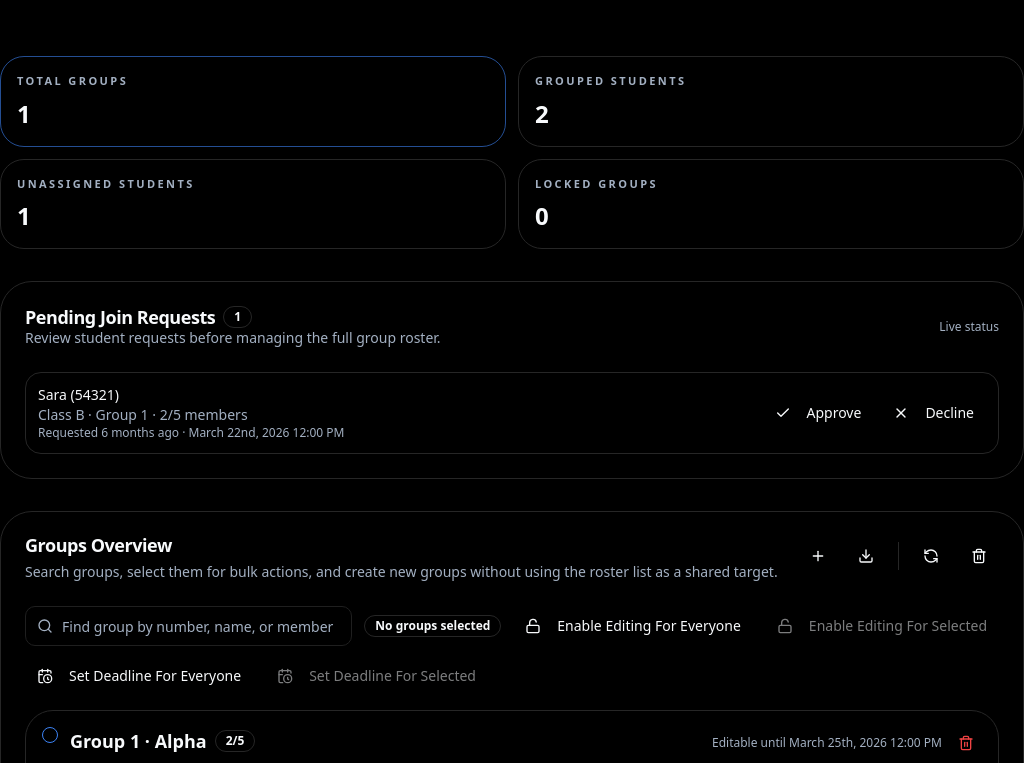
Test case: GroupsManagement › renders group controls, filters, and explicit assignment inputs
Expected: the heading "Groups Overview" is shown, [25,533,172,557]
Expected: the button "Total Groups 1" is shown, [0,56,506,146]
Click the button named "create group": click(818, 556) [798,536,838,576]
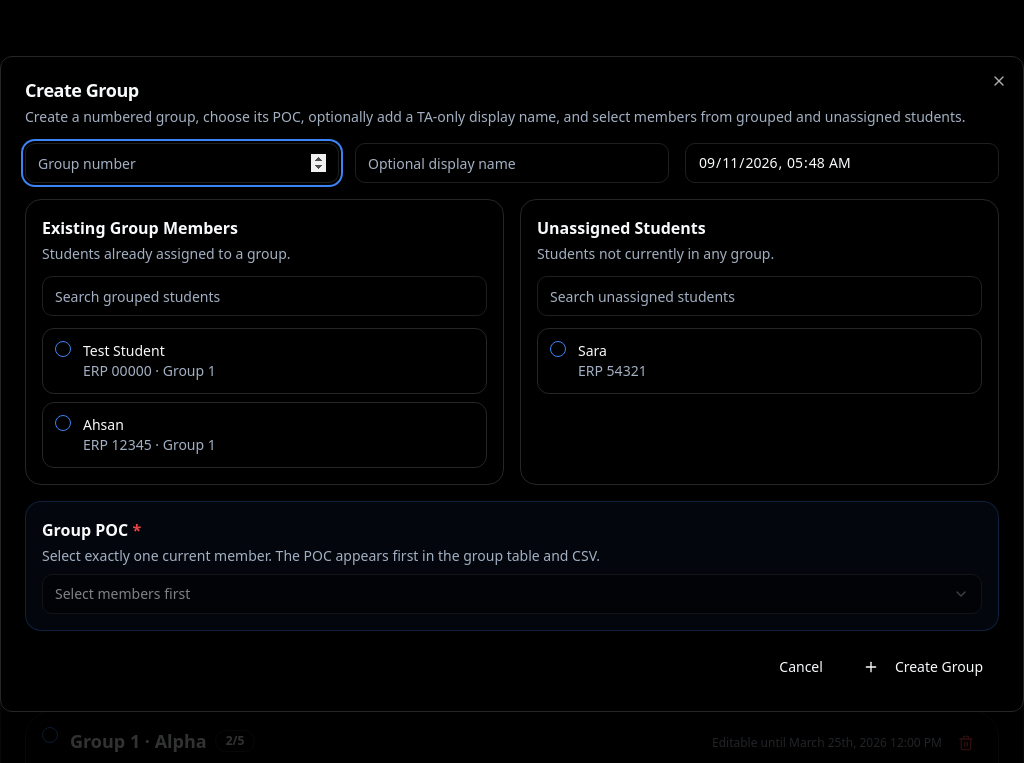
Now the dropdown named "Group POC" is shown, box [42,574,982,614]
